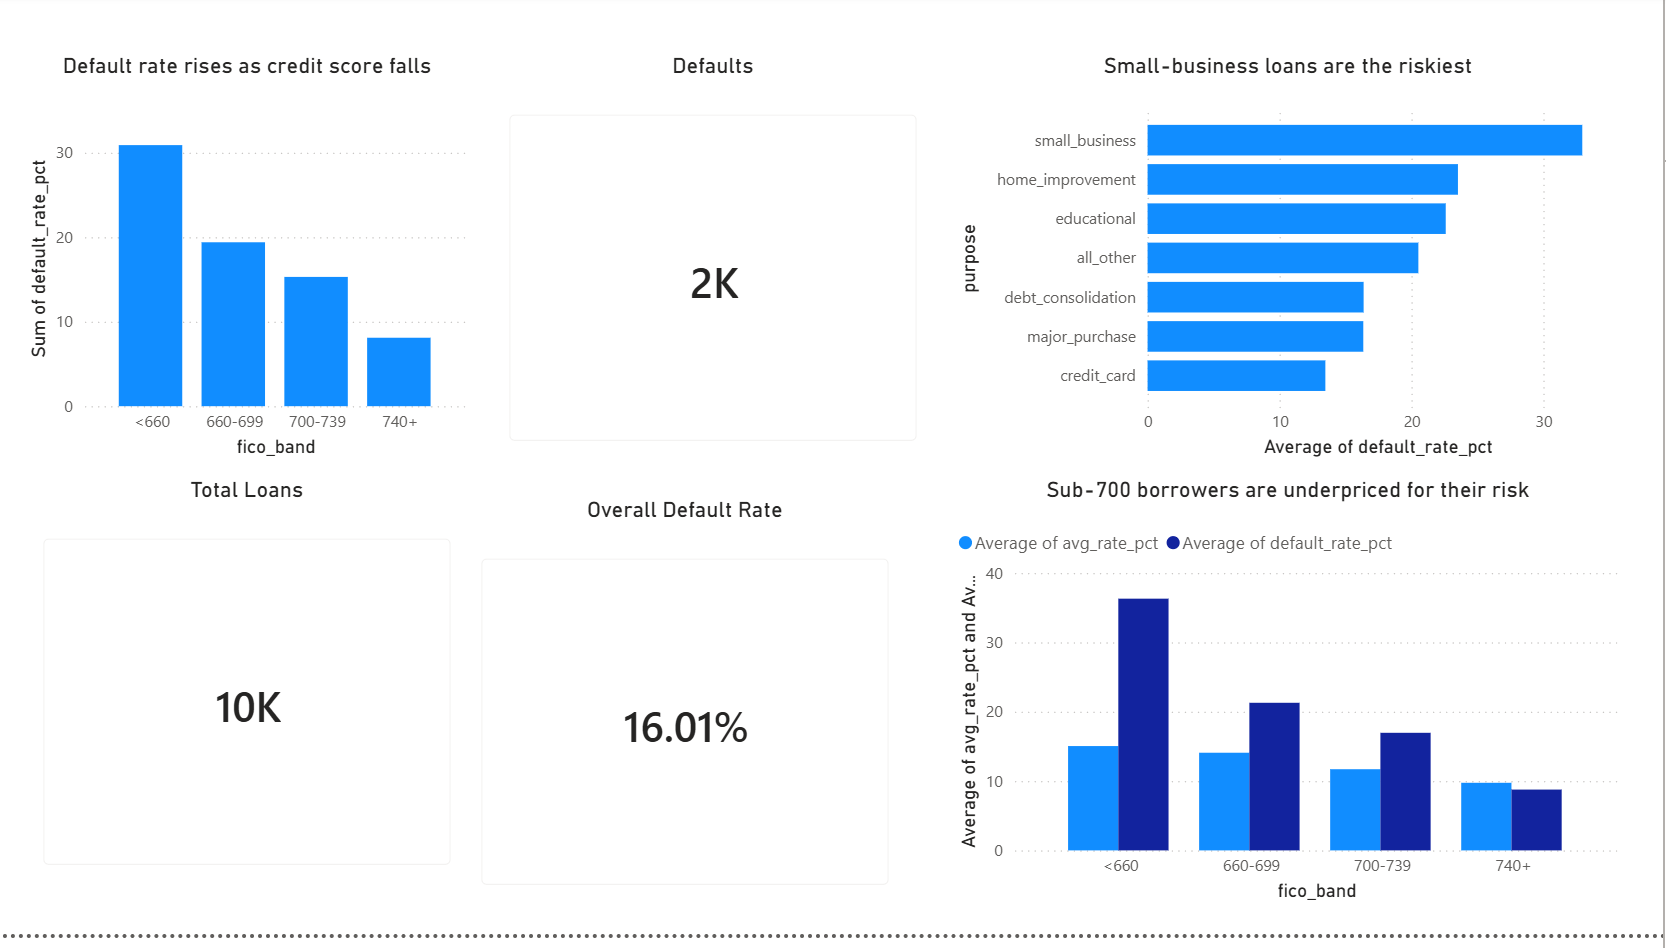

This screenshot's page, from the dashboard's own definition file:
{"tool":"powerbi","page":{"name":"Page 1","canvas":[1280,720],"ordinal":0},"visuals":[{"type":"clusteredColumnChart","title":"Default rate rises as credit score falls","fields":{"Y":["Sum(mart_rate_vs_risk.default_rate_pct)"],"Category":["mart_rate_vs_risk.fico_band"]},"box":[23,45.9,346,313.9],"z":0},{"type":"cardVisual","title":"Sum of loans","fields":{"Data":["Sum(mart_credit_policy.loans)"]},"box":[23,370,346,314],"z":1},{"type":"cardVisual","title":"Sum of defaults","fields":{"Data":["Sum(mart_credit_policy.defaults)"]},"box":[379,46,346,314],"z":2},{"type":"cardVisual","title":"Overall Default Rate","fields":{"Data":["mart_default_by_segment.Overall Default Rate"]},"box":[358.3,385.8,346,314],"z":3},{"type":"clusteredBarChart","title":"Small-business loans are the riskiest","fields":{"Category":["mart_default_by_segment.purpose"],"Y":["Avg(mart_default_by_segment.default_rate_pct)"]},"box":[734.9,45.9,516,313.9],"z":4},{"type":"clusteredColumnChart","title":"Sub-700 borrowers are underpriced for their risk","fields":{"Category":["mart_default_by_segment.fico_band"],"Y":["Avg(mart_default_by_segment.avg_rate_pct)","Avg(mart_default_by_segment.default_rate_pct)"]},"box":[734.9,370.5,516,329.2],"z":5}]}

Visuals, with their boxes in screenshot pixels (x1, y1, x2, y2), scaled from the page's 1280x720 canvas onto the 1666x948 screenshot:
"Default rate rises as credit score falls" clusteredColumnChart: pyautogui.locateOnScreen(30, 60, 480, 474)
"Sum of loans" cardVisual: pyautogui.locateOnScreen(30, 487, 480, 901)
"Sum of defaults" cardVisual: pyautogui.locateOnScreen(493, 61, 944, 474)
"Overall Default Rate" cardVisual: pyautogui.locateOnScreen(466, 508, 917, 921)
"Small-business loans are the riskiest" clusteredBarChart: pyautogui.locateOnScreen(957, 60, 1628, 474)
"Sub-700 borrowers are underpriced for their risk" clusteredColumnChart: pyautogui.locateOnScreen(957, 488, 1628, 921)
